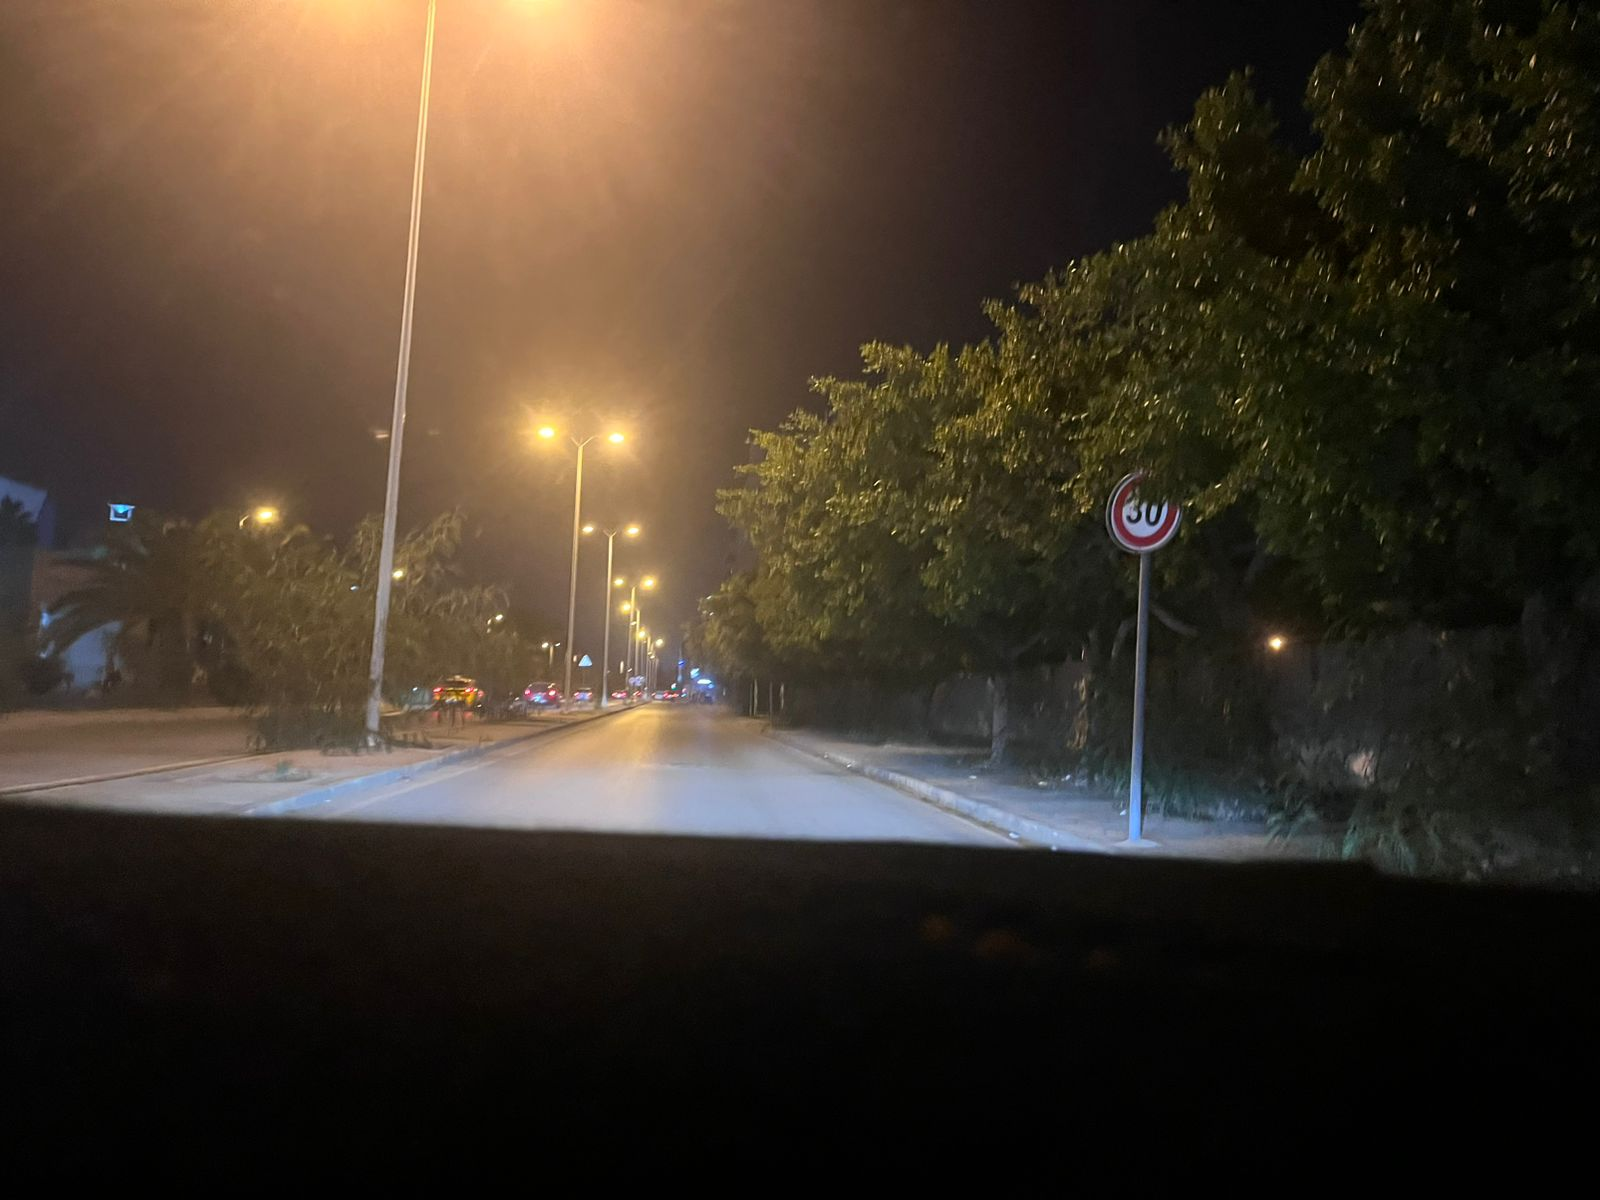SpeedLimit30: (1109, 466, 1184, 552)
